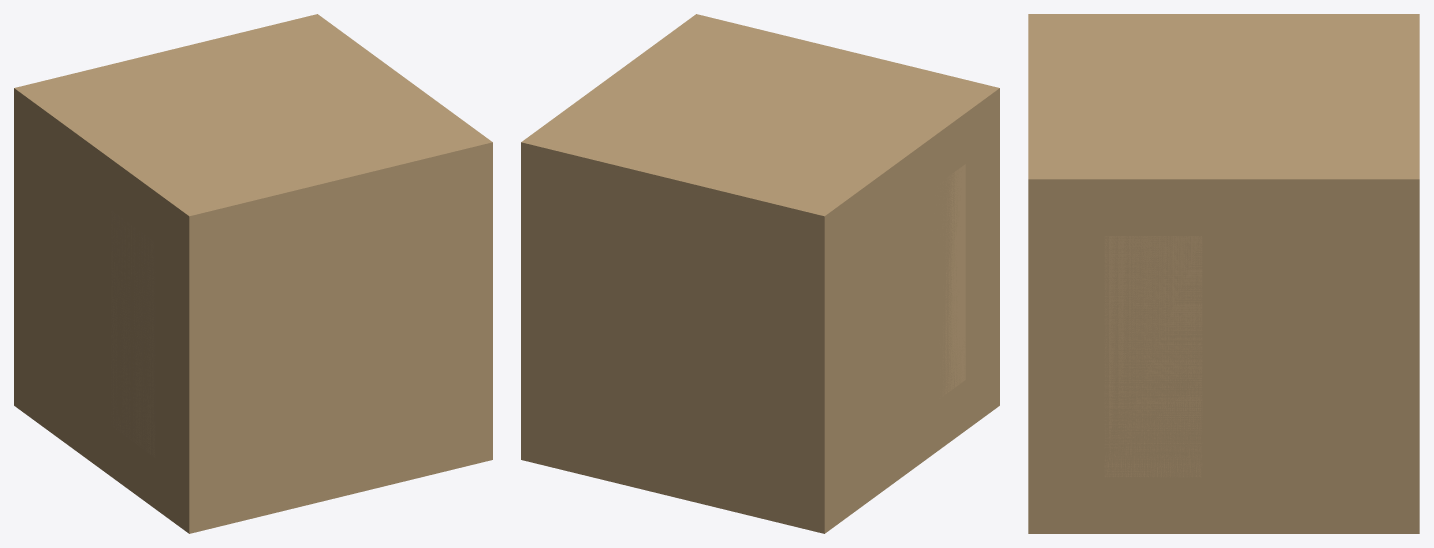
The model's file is 57_chest.glb.
3 renders of one model, left to right at view 1: azimuth 30°, elevation 25°; view 2: azimuth 150°, elevation 25°; view 3: azimuth 270°, elevation 25°, orthographic. The views are drawn at different scales.
Visible parts, largest first — view 1: Core, ChestBase, Lid; view 2: Core, Lid; view 3: Core, ChestBase, Lid.
Boxes of the visible parts, x1,y1,x2,y2 form: Core: (14, 14, 492, 533); ChestBase: (15, 148, 111, 419); Lid: (111, 211, 155, 457); Core: (521, 14, 999, 533); Lid: (940, 164, 965, 396); Core: (1028, 14, 1419, 533); ChestBase: (1202, 241, 1417, 471); Lid: (1104, 236, 1202, 477).
Size of the model in its own units: 1 by 1 by 1.
